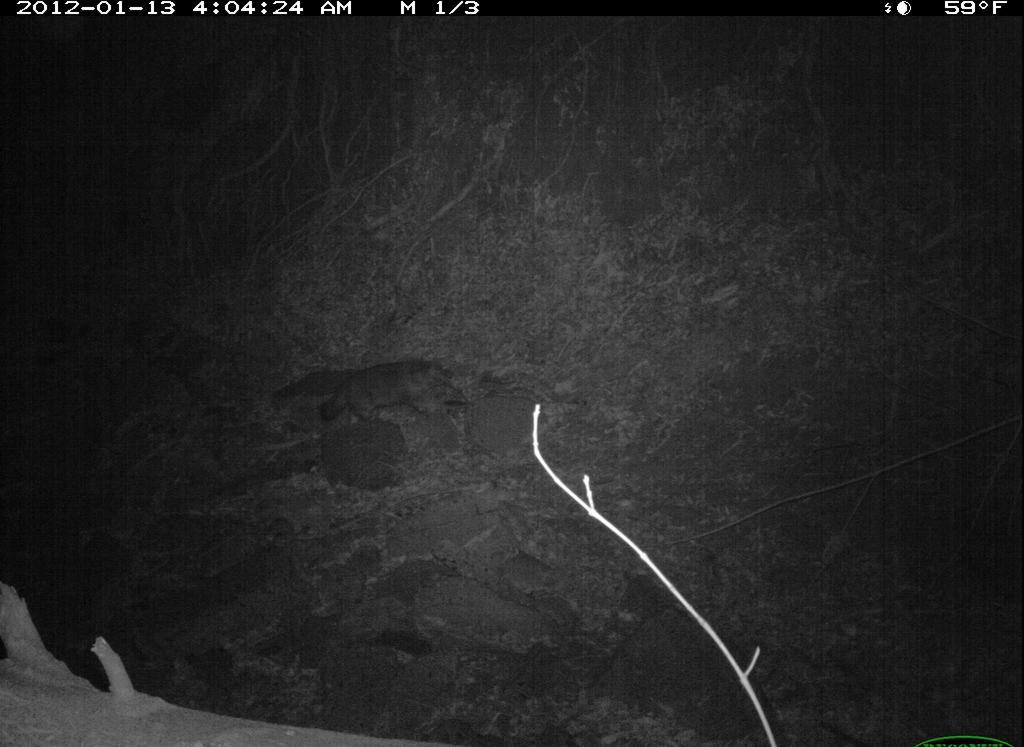cat: (306, 348, 477, 432)
